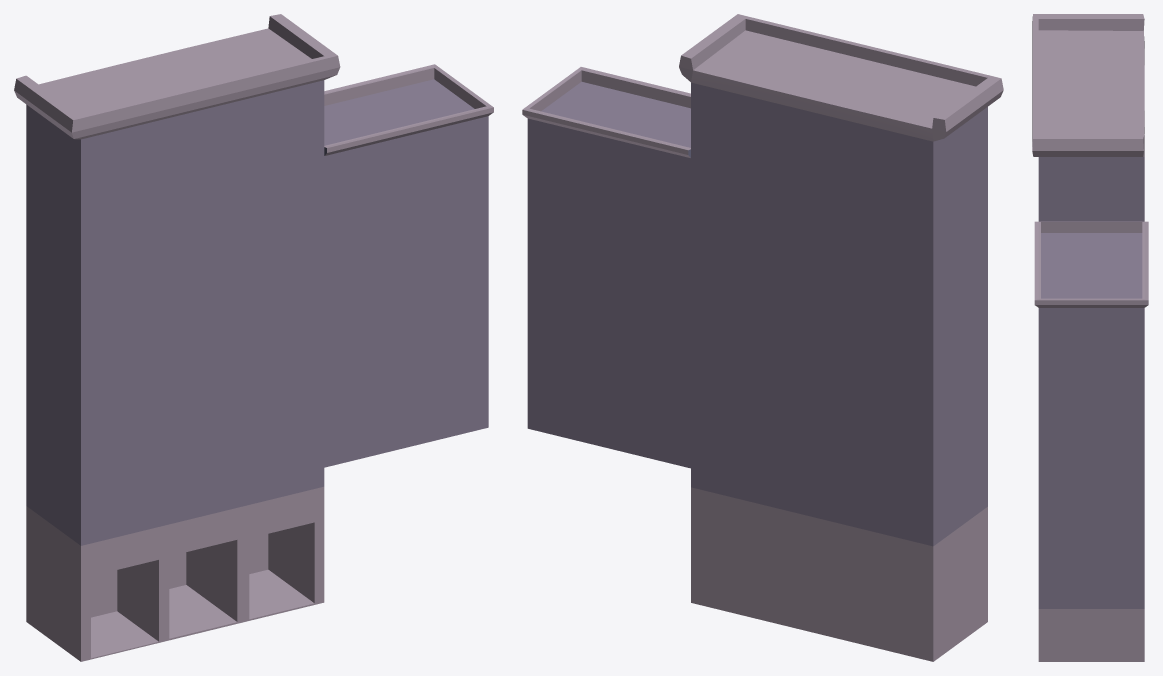
Rendered from building_F_5floors.fbx.
3 views of the same model, side by side, from view 1: azimuth 30°, elevation 25°; view 2: azimuth 150°, elevation 25°; view 3: azimuth 270°, elevation 25° (orthographic). The views are drawn at different scales.
Parts seen in each view (by area): view 1: building_F_5floors; view 2: building_F_5floors; view 3: building_F_5floors.
Boxes of the visible parts, <box> form: building_F_5floors: <box>14,14,493,661</box>; building_F_5floors: <box>522,14,1003,661</box>; building_F_5floors: <box>1032,14,1148,661</box>.
Size of the model in its own units: 14.02 by 17.29 by 3.46.
